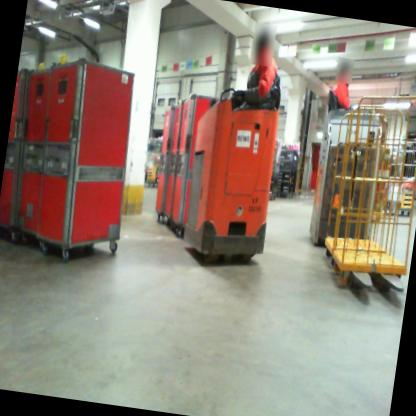pallet_truck: (152, 61, 295, 273), (289, 91, 416, 305)
